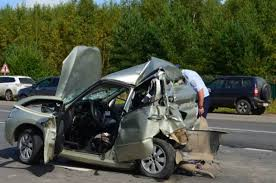car: (14, 49, 223, 177)
